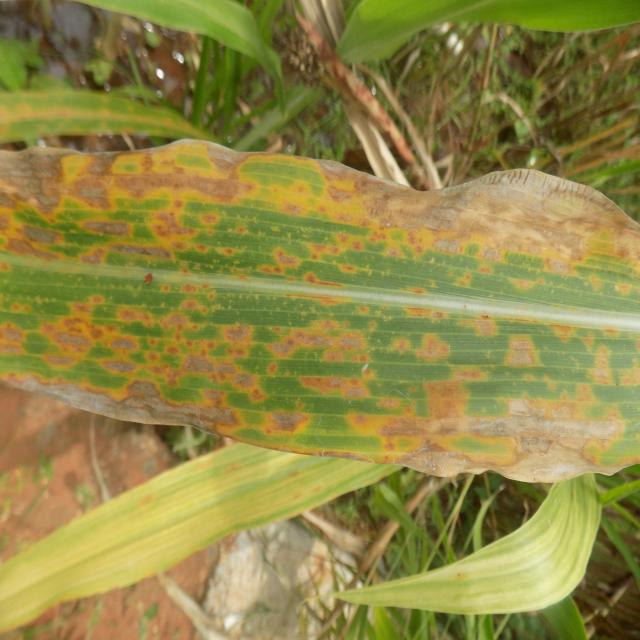millet_healthy: (0, 431, 378, 640), (360, 472, 606, 621), (0, 0, 292, 104), (318, 0, 639, 76)
millet_rust: (0, 133, 640, 488), (0, 79, 234, 163)
